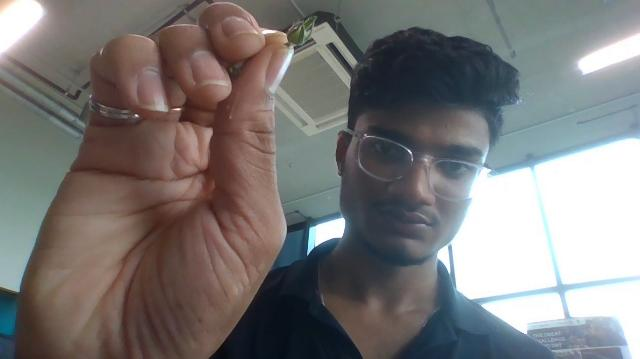Fruit Bud: (285, 15, 316, 49)
